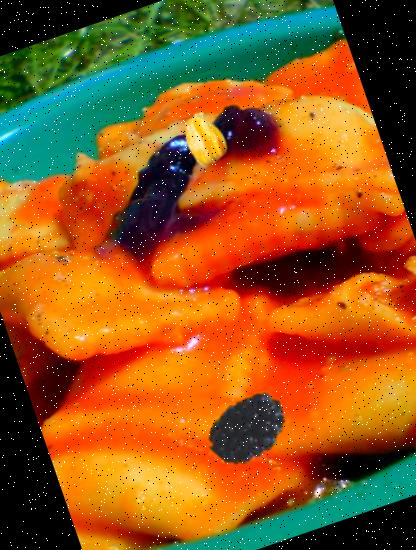Mulberry: (197, 376, 302, 481)
Physalis: (170, 106, 235, 171)
